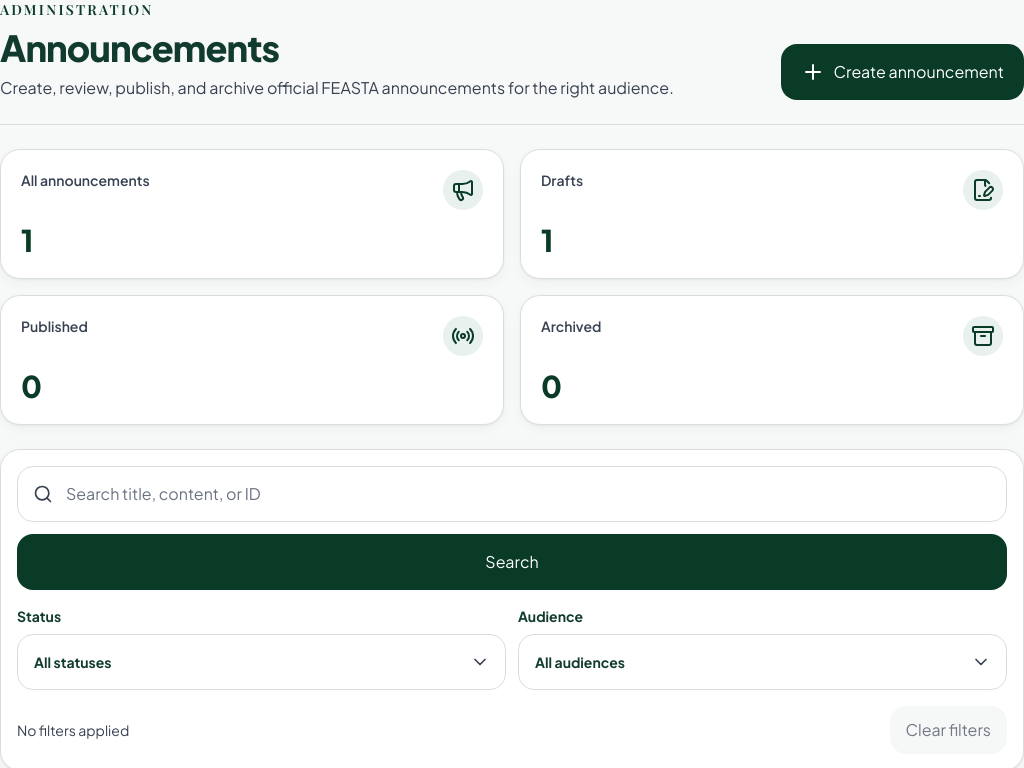
retries a failed new announcement filter rather than the previous successful filter
Select "Providers" in the dropdown labelled "Audience" at (762, 662), box left=518, top=634, right=1007, bottom=690
(page scrolled)
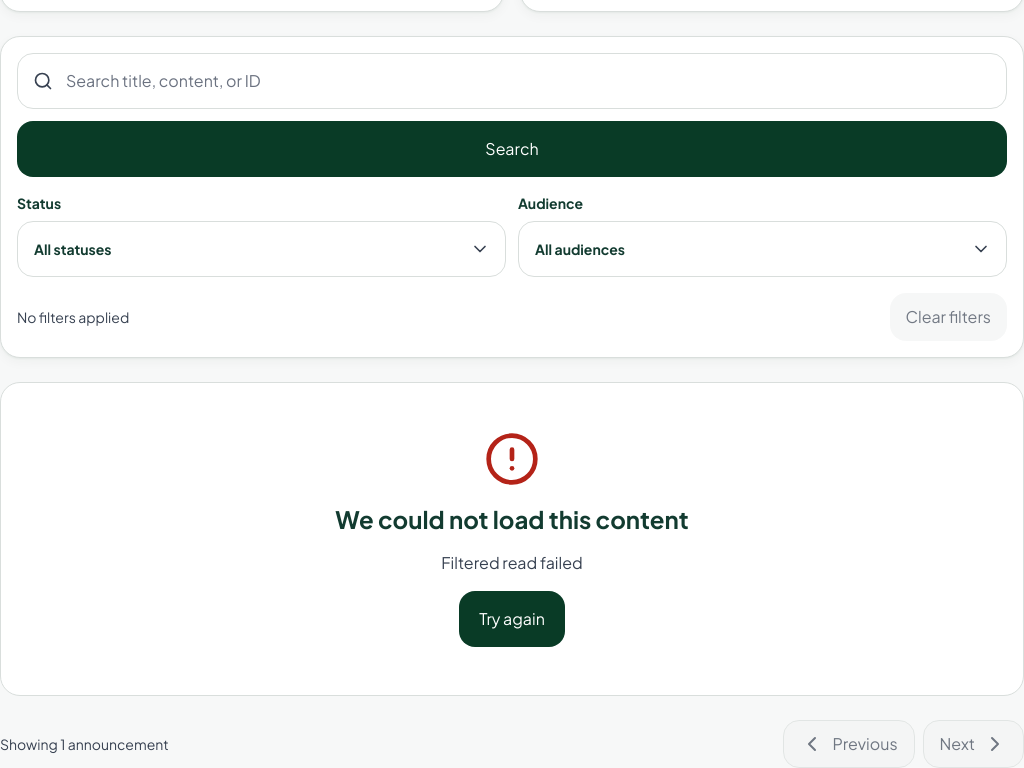
Result: the text "Filtered read failed" is shown at left=441, top=551, right=583, bottom=575
Click the button "Try again" at (512, 619), box left=459, top=591, right=565, bottom=647
(page scrolled)
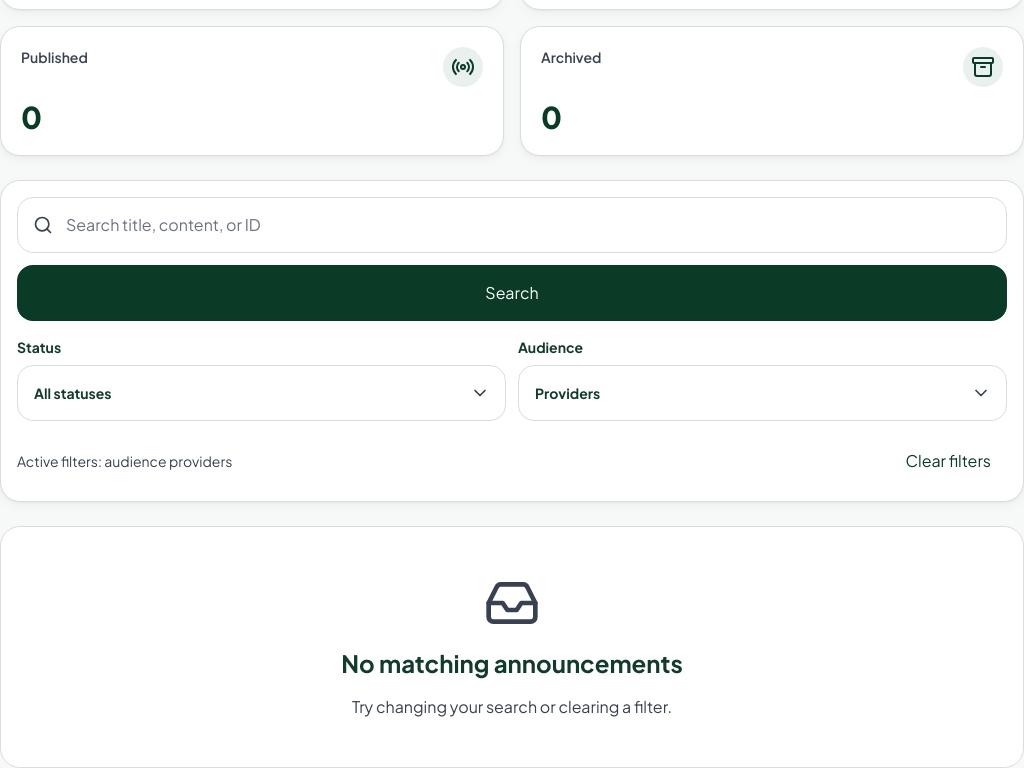
Result: the heading "No matching announcements" is shown at left=341, top=647, right=683, bottom=679
